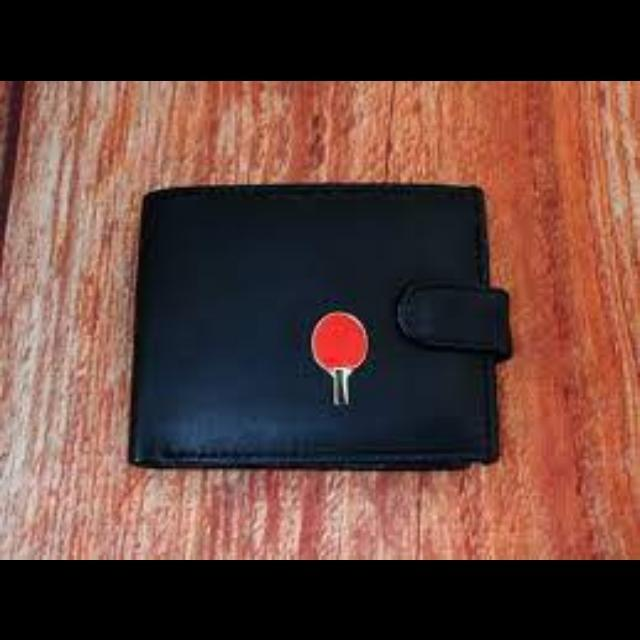wallet: (140, 184, 570, 494)
